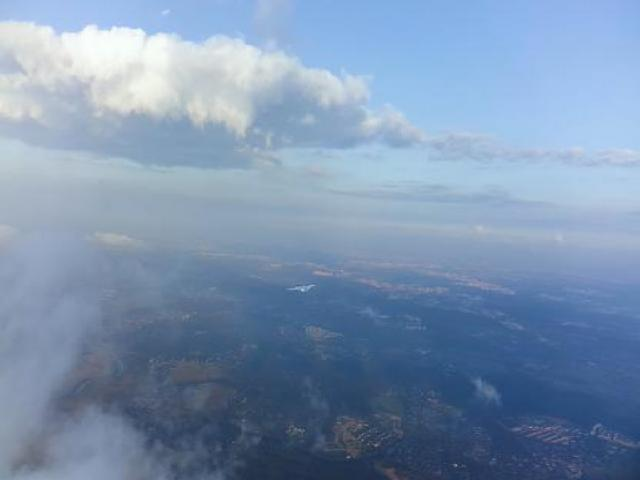uav: (286, 276, 317, 295)
